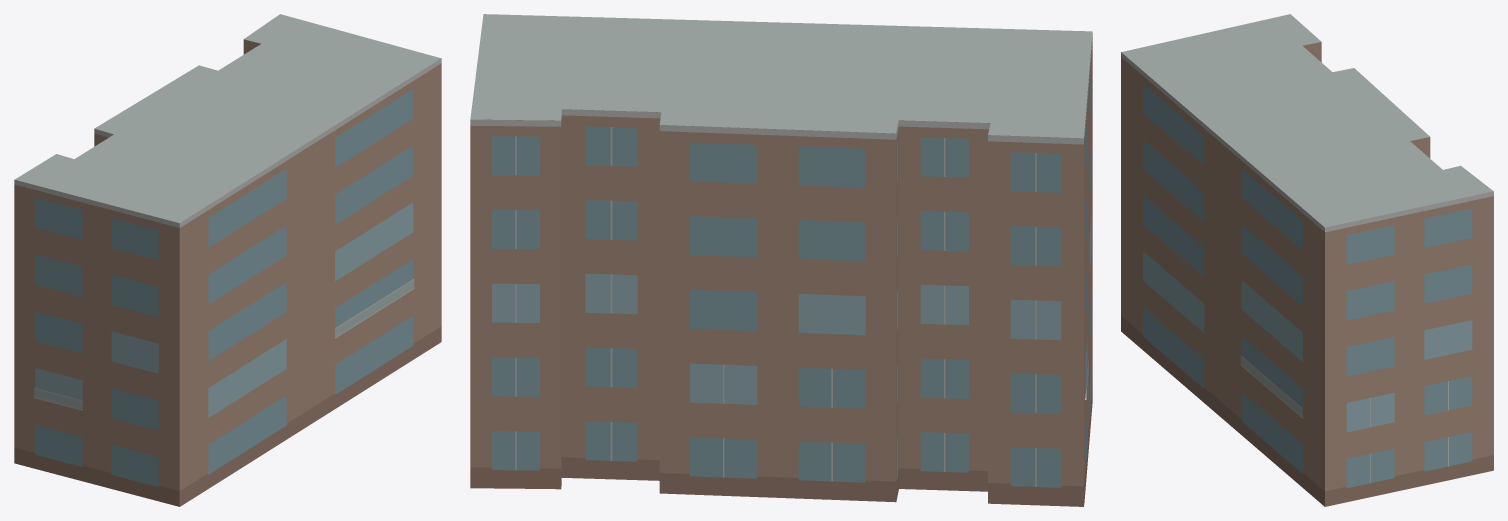
File: survey-upis-32962473.glb
The picture shows the model from 3 angles, left to right: view 1: azimuth 30°, elevation 25°; view 2: azimuth 150°, elevation 25°; view 3: azimuth 270°, elevation 25°; orthographic projection. The views are drawn at different scales.
Parts seen in each view (by area): view 1: survey-upis-32962473.tmp; view 2: survey-upis-32962473.tmp; view 3: survey-upis-32962473.tmp.
Part boxes in pixels (x1,y1,x2,y2): survey-upis-32962473.tmp: [14, 14, 441, 506]; survey-upis-32962473.tmp: [470, 14, 1092, 506]; survey-upis-32962473.tmp: [1121, 14, 1493, 506].
Bounding box in the file's own units: 23.63 × 14.4 × 17.43.
